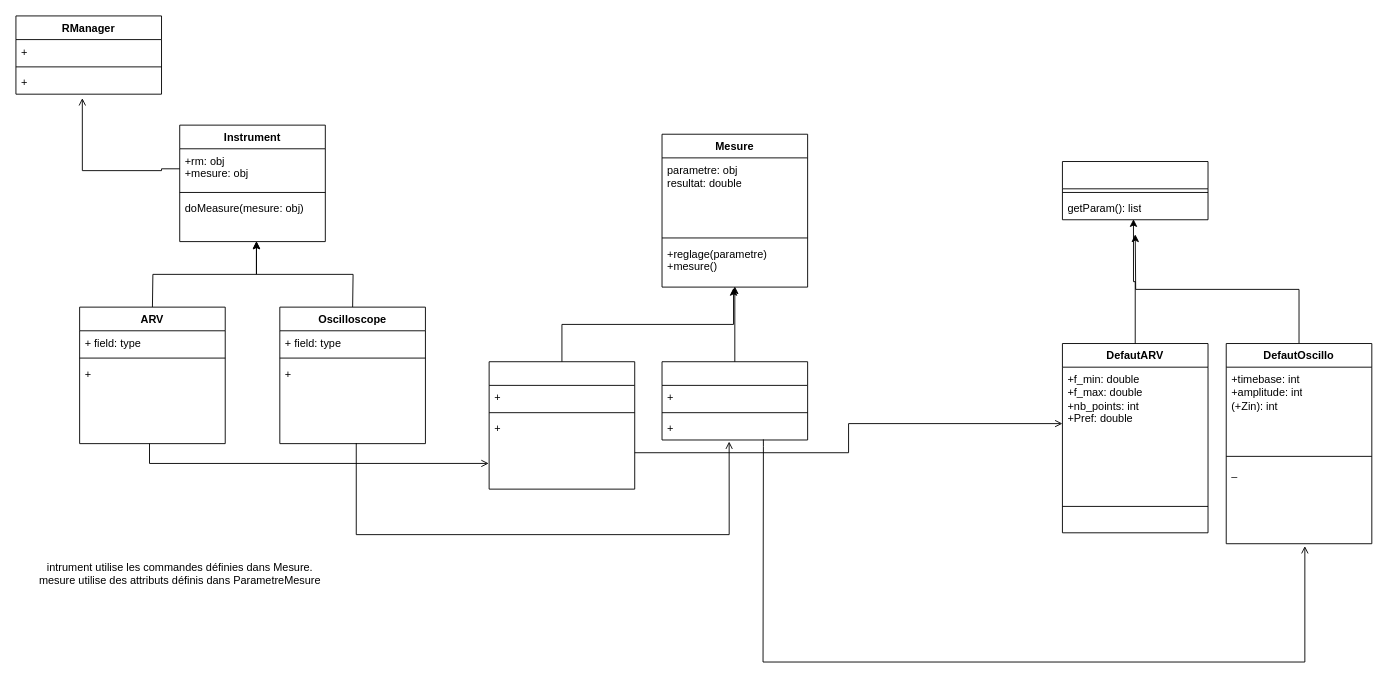
This 1388x685 diagram has some shape labels left out. The shapes that lost their labels are listed below. From the top down, each one's box as (x1, y1, x2, y2) in pixels, then its label:
(1062, 161, 1208, 220): Paramètre mesure
(661, 361, 808, 440): Vrms
(488, 361, 635, 489): S21
